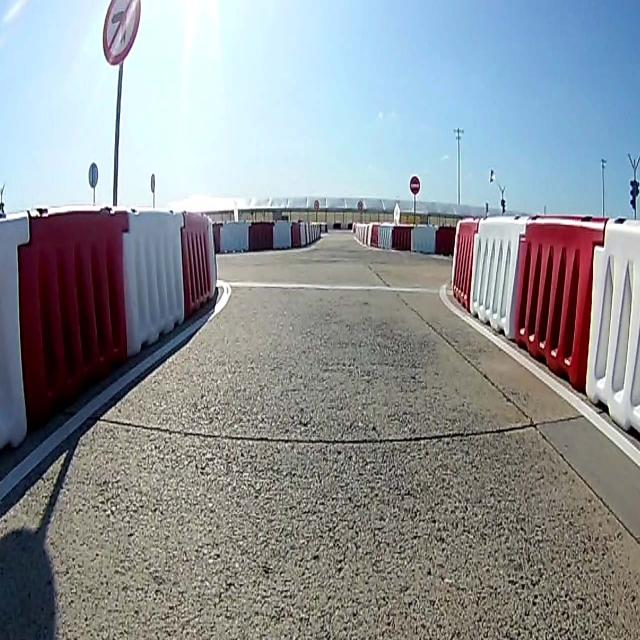girisyok: (410, 172, 420, 195)
soladonulmez: (103, 1, 139, 71)
